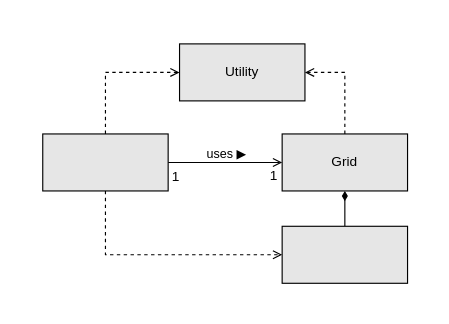
This 449x324 diagram has some shape labels left out. Here are the shapes that lost their labels. From the top down, the centre of each, then its label:
[105,162]: Game
[344,254]: Tile
